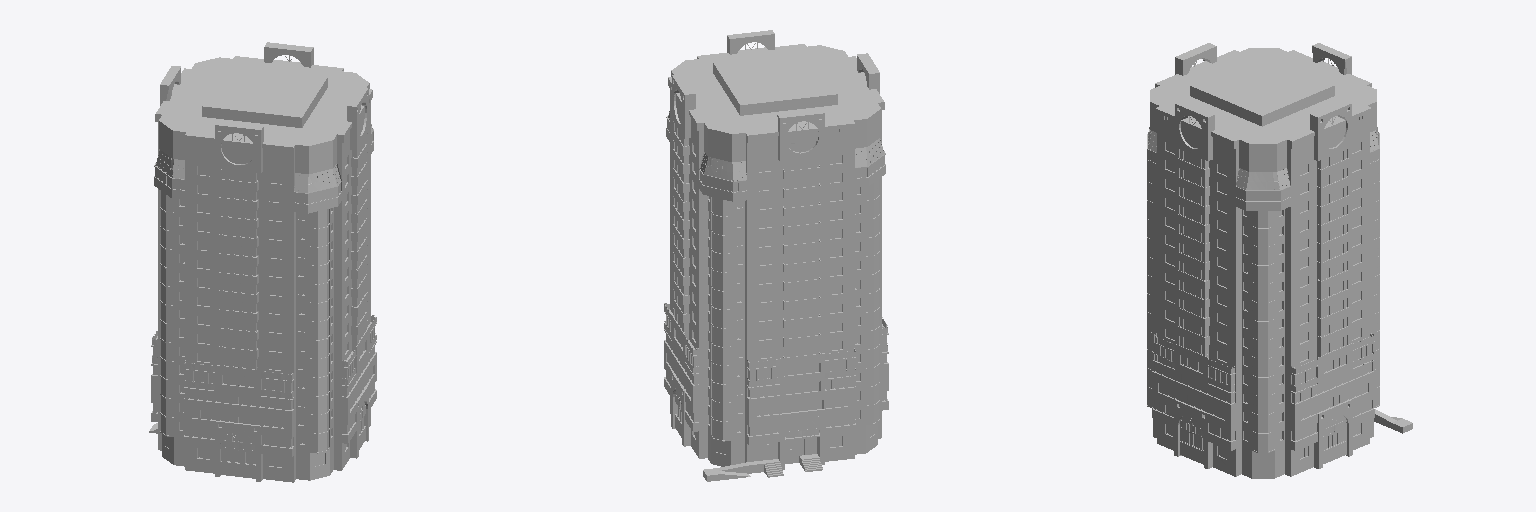
Rendered from Building 1.obj.
The picture shows the model from 3 angles: view 1: azimuth 30°, elevation 25°; view 2: azimuth 150°, elevation 25°; view 3: azimuth 270°, elevation 25°; orthographic projection.
Parts seen in each view (by area): view 1: Object004; view 2: Object004; view 3: Object004.
Boxes of the visible parts, x1=… form: Object004: x1=149, y1=42, x2=376, y2=482; Object004: x1=664, y1=30, x2=888, y2=481; Object004: x1=1147, y1=43, x2=1412, y2=478.
Size of the model in its own units: 12.11 by 20.08 by 13.82.